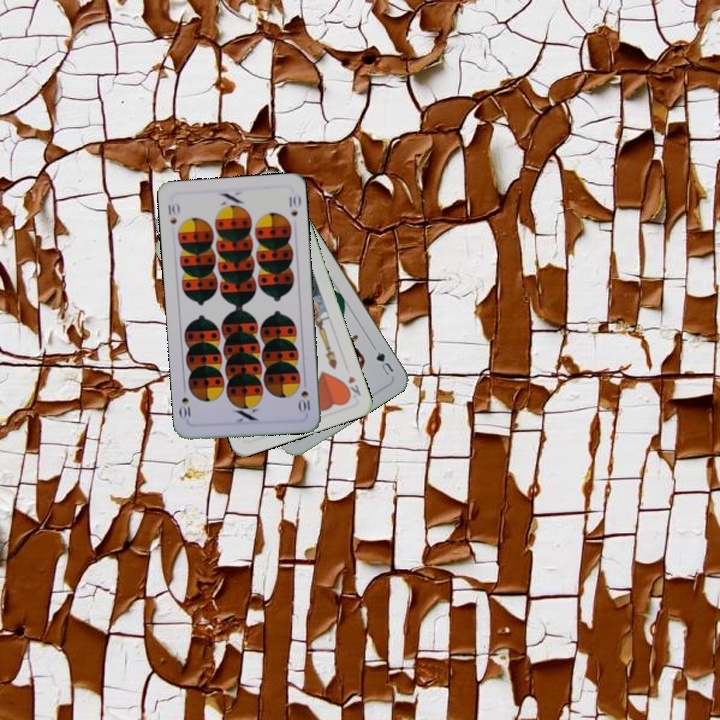GU: (369, 342, 396, 378)
HK: (340, 371, 363, 401)
S10: (296, 376, 312, 416), (164, 199, 182, 227)
